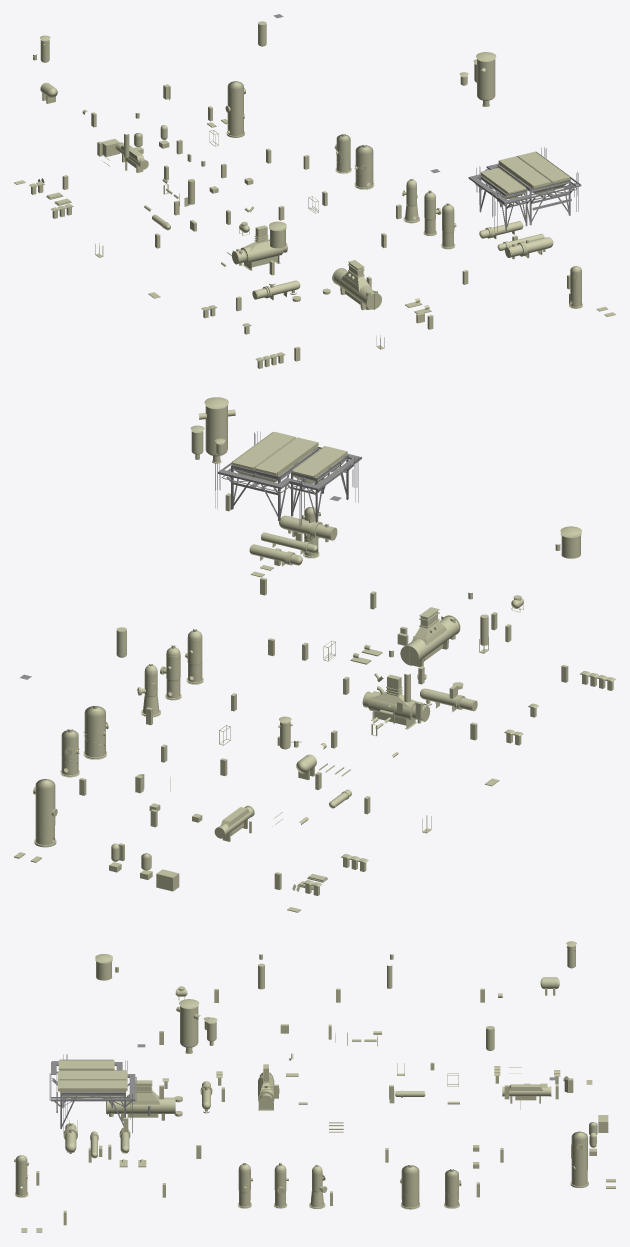
The picture shows the model from 3 angles, top to bottom: view 1: azimuth 30°, elevation 25°; view 2: azimuth 150°, elevation 25°; view 3: azimuth 270°, elevation 25°; orthographic projection. The views are drawn at different scales.
Bounding box in the file's own units: 59.16 × 36.62 × 94.27.
